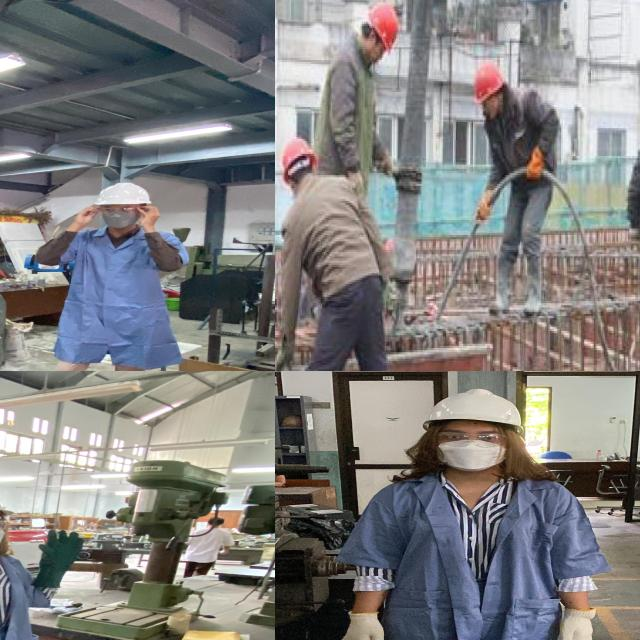face_mask: (436, 428, 510, 473), (96, 202, 142, 230)
glasses: (434, 430, 510, 449), (92, 204, 146, 217), (0, 515, 10, 531)
hand_glove: (322, 611, 390, 640), (34, 528, 90, 563), (556, 607, 600, 640), (275, 332, 302, 371), (473, 190, 497, 223), (524, 150, 545, 181)
hand_noglove: (69, 205, 109, 226), (130, 204, 163, 224)
head_helmet: (419, 388, 523, 430), (366, 0, 400, 51), (93, 180, 155, 207), (278, 134, 319, 174), (472, 62, 505, 105)
person: (332, 385, 610, 640), (275, 135, 408, 371), (24, 177, 179, 371), (465, 59, 569, 322), (315, 0, 400, 207)
shoes: (485, 246, 516, 318), (517, 249, 546, 320)
